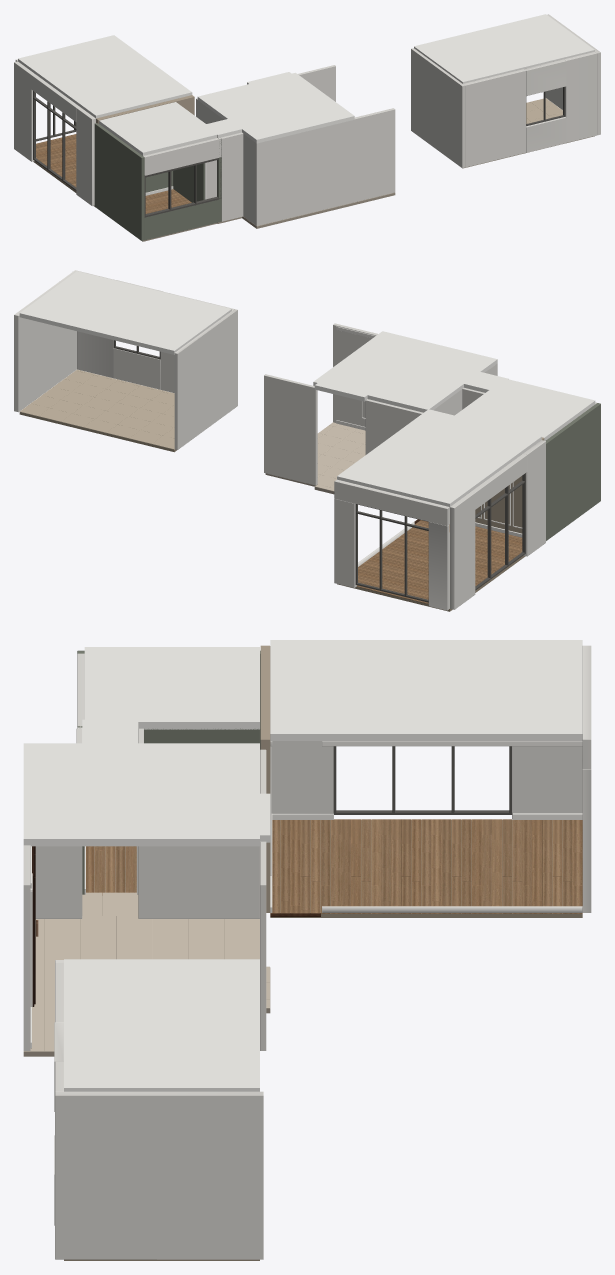
Rendered from ground-envelope.glb.
The picture shows the model from 3 angles, top to bottom: view 1: azimuth 30°, elevation 25°; view 2: azimuth 150°, elevation 25°; view 3: azimuth 270°, elevation 25°; orthographic projection. The views are drawn at different scales.
Visible parts, largest first — view 1: SM_KG_NewRooms, SM_UP_OpenFoyer; view 2: SM_KG_NewRooms, SM_UP_OpenFoyer; view 3: SM_KG_NewRooms, SM_UP_OpenFoyer.
Boxes of the visible parts, box(x1,y1,x2,y2) form: SM_KG_NewRooms: box(14, 14, 600, 206); SM_UP_OpenFoyer: box(94, 65, 395, 241); SM_KG_NewRooms: box(14, 270, 545, 611); SM_UP_OpenFoyer: box(264, 323, 600, 540); SM_KG_NewRooms: box(54, 640, 591, 1260); SM_UP_OpenFoyer: box(23, 647, 270, 1056).
Size of the model in its own units: 19.31 by 3.74 by 10.43.
20 materials, 8 textured.
